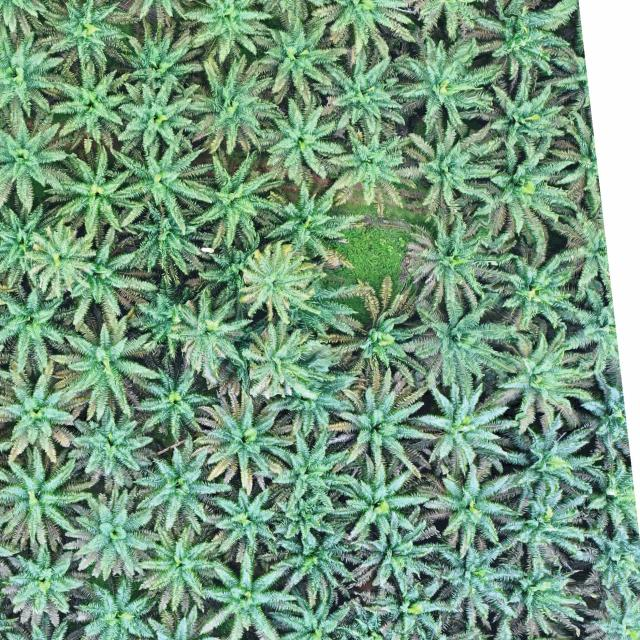Tree: (314, 266, 433, 382), (321, 360, 442, 466), (48, 309, 161, 422), (319, 446, 433, 553), (338, 494, 453, 600), (188, 385, 300, 493), (397, 292, 515, 390), (48, 226, 160, 328), (393, 32, 506, 133), (494, 326, 597, 436), (109, 130, 217, 233), (0, 442, 97, 556), (402, 206, 506, 310), (413, 459, 522, 558), (130, 432, 236, 532), (478, 144, 582, 244), (416, 376, 524, 472), (195, 546, 302, 640), (192, 151, 289, 253), (59, 484, 157, 582), (42, 142, 141, 238), (250, 424, 356, 513), (188, 54, 282, 154), (498, 486, 599, 577), (323, 48, 423, 139), (489, 550, 590, 640), (499, 415, 607, 499), (256, 3, 344, 106), (427, 543, 527, 631), (404, 125, 506, 211), (130, 522, 224, 615), (257, 528, 361, 611), (501, 236, 587, 336), (328, 122, 422, 213), (0, 360, 80, 464), (236, 236, 327, 327), (262, 182, 364, 263), (122, 5, 213, 95), (260, 354, 360, 435), (66, 398, 152, 492), (165, 287, 255, 376), (0, 108, 75, 212), (50, 61, 136, 151), (486, 76, 577, 160), (0, 279, 80, 374), (0, 541, 89, 626), (264, 96, 348, 182), (37, 0, 134, 73), (240, 316, 322, 401), (113, 73, 201, 152), (307, 0, 419, 62), (126, 202, 211, 282), (363, 573, 463, 640), (20, 216, 100, 298), (207, 483, 286, 564), (140, 364, 222, 442), (72, 569, 162, 640), (0, 24, 67, 119), (178, 0, 275, 65), (0, 198, 58, 290), (269, 488, 342, 560), (267, 593, 360, 640), (406, 0, 495, 40), (0, 0, 58, 38)
